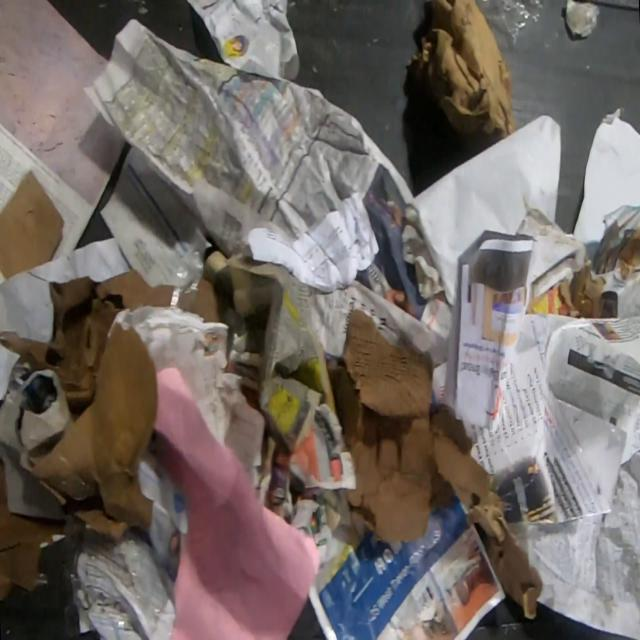cardboard: (325, 305, 543, 622), (0, 267, 174, 540), (405, 0, 519, 150), (0, 358, 71, 522), (0, 461, 64, 604), (0, 167, 65, 282), (525, 259, 608, 320), (286, 343, 340, 417), (193, 277, 236, 325)
soft_plastic: (62, 518, 176, 640), (476, 0, 548, 53), (170, 217, 207, 314)
